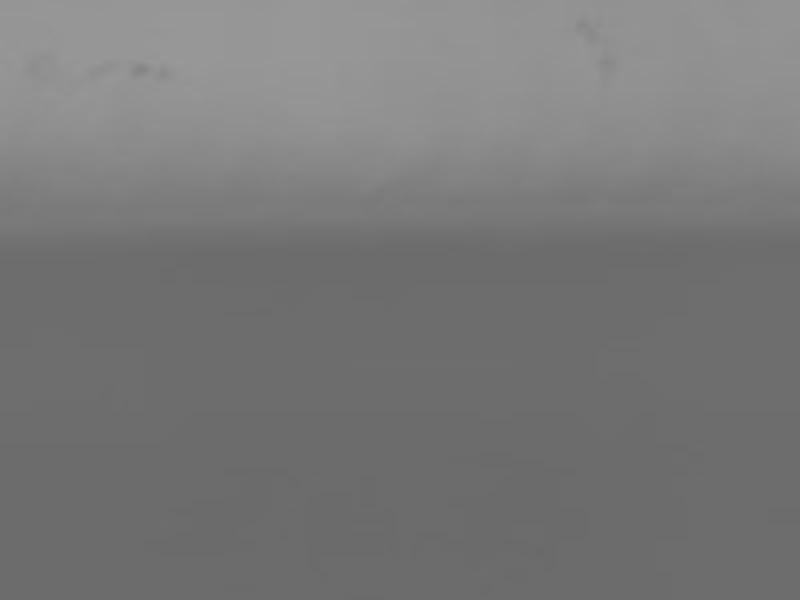defect: (596, 47, 619, 84), (571, 18, 601, 45), (130, 62, 153, 78), (158, 65, 177, 83)
